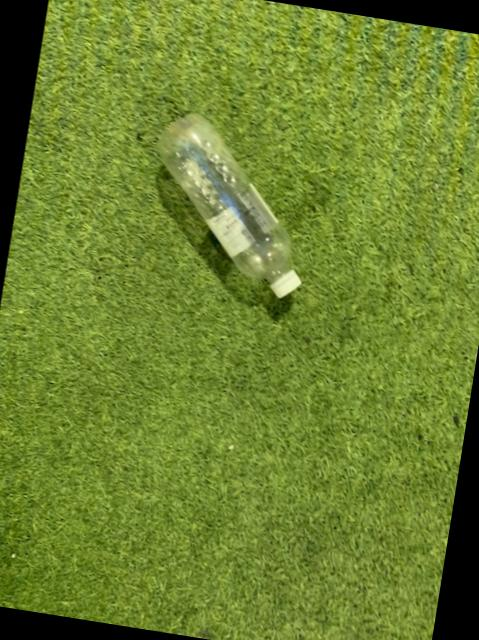plastic: (156, 112, 298, 295)
